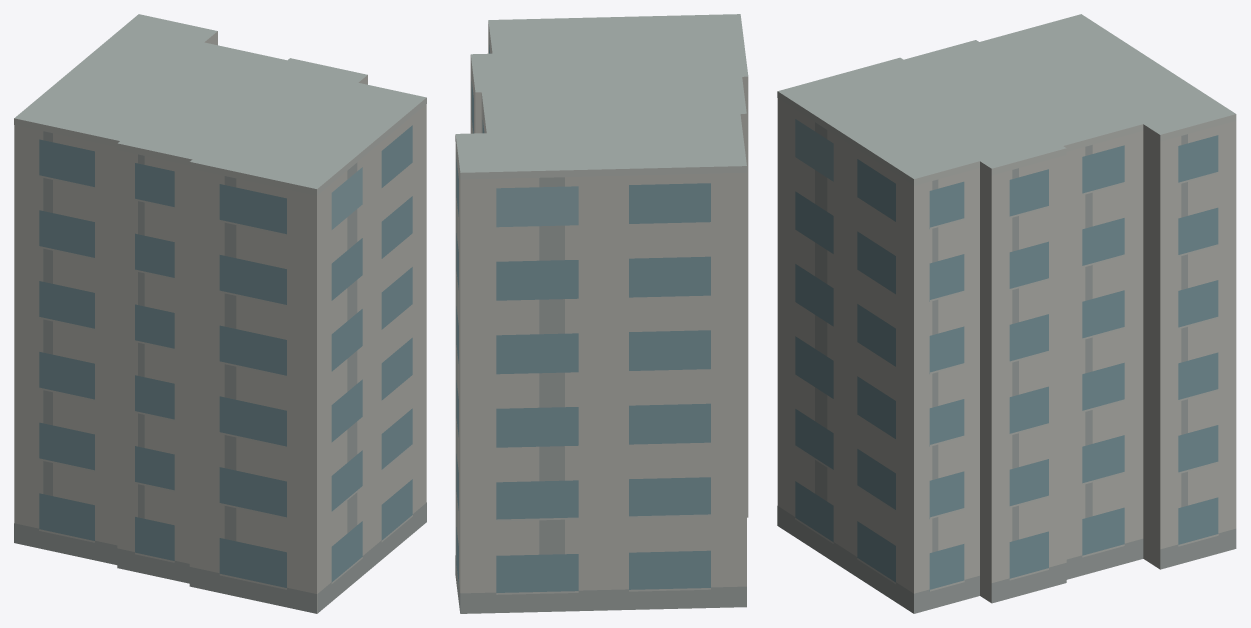
File: survey-upis-33032659.glb
3 views of the same model, side by side, from view 1: azimuth 30°, elevation 25°; view 2: azimuth 150°, elevation 25°; view 3: azimuth 270°, elevation 25° (orthographic). The views are drawn at different scales.
Visible parts, largest first — view 1: survey-upis-33032659.tmp; view 2: survey-upis-33032659.tmp; view 3: survey-upis-33032659.tmp.
Part boxes in pixels (x1,y1,x2,y2): survey-upis-33032659.tmp: [14, 14, 426, 613]; survey-upis-33032659.tmp: [455, 14, 748, 613]; survey-upis-33032659.tmp: [777, 14, 1236, 613].
Bounding box in the file's own units: 12.73 × 15.6 × 14.93.
